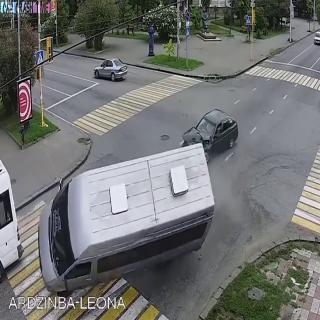multiple_accident: (26, 132, 216, 303), (151, 95, 244, 179)
